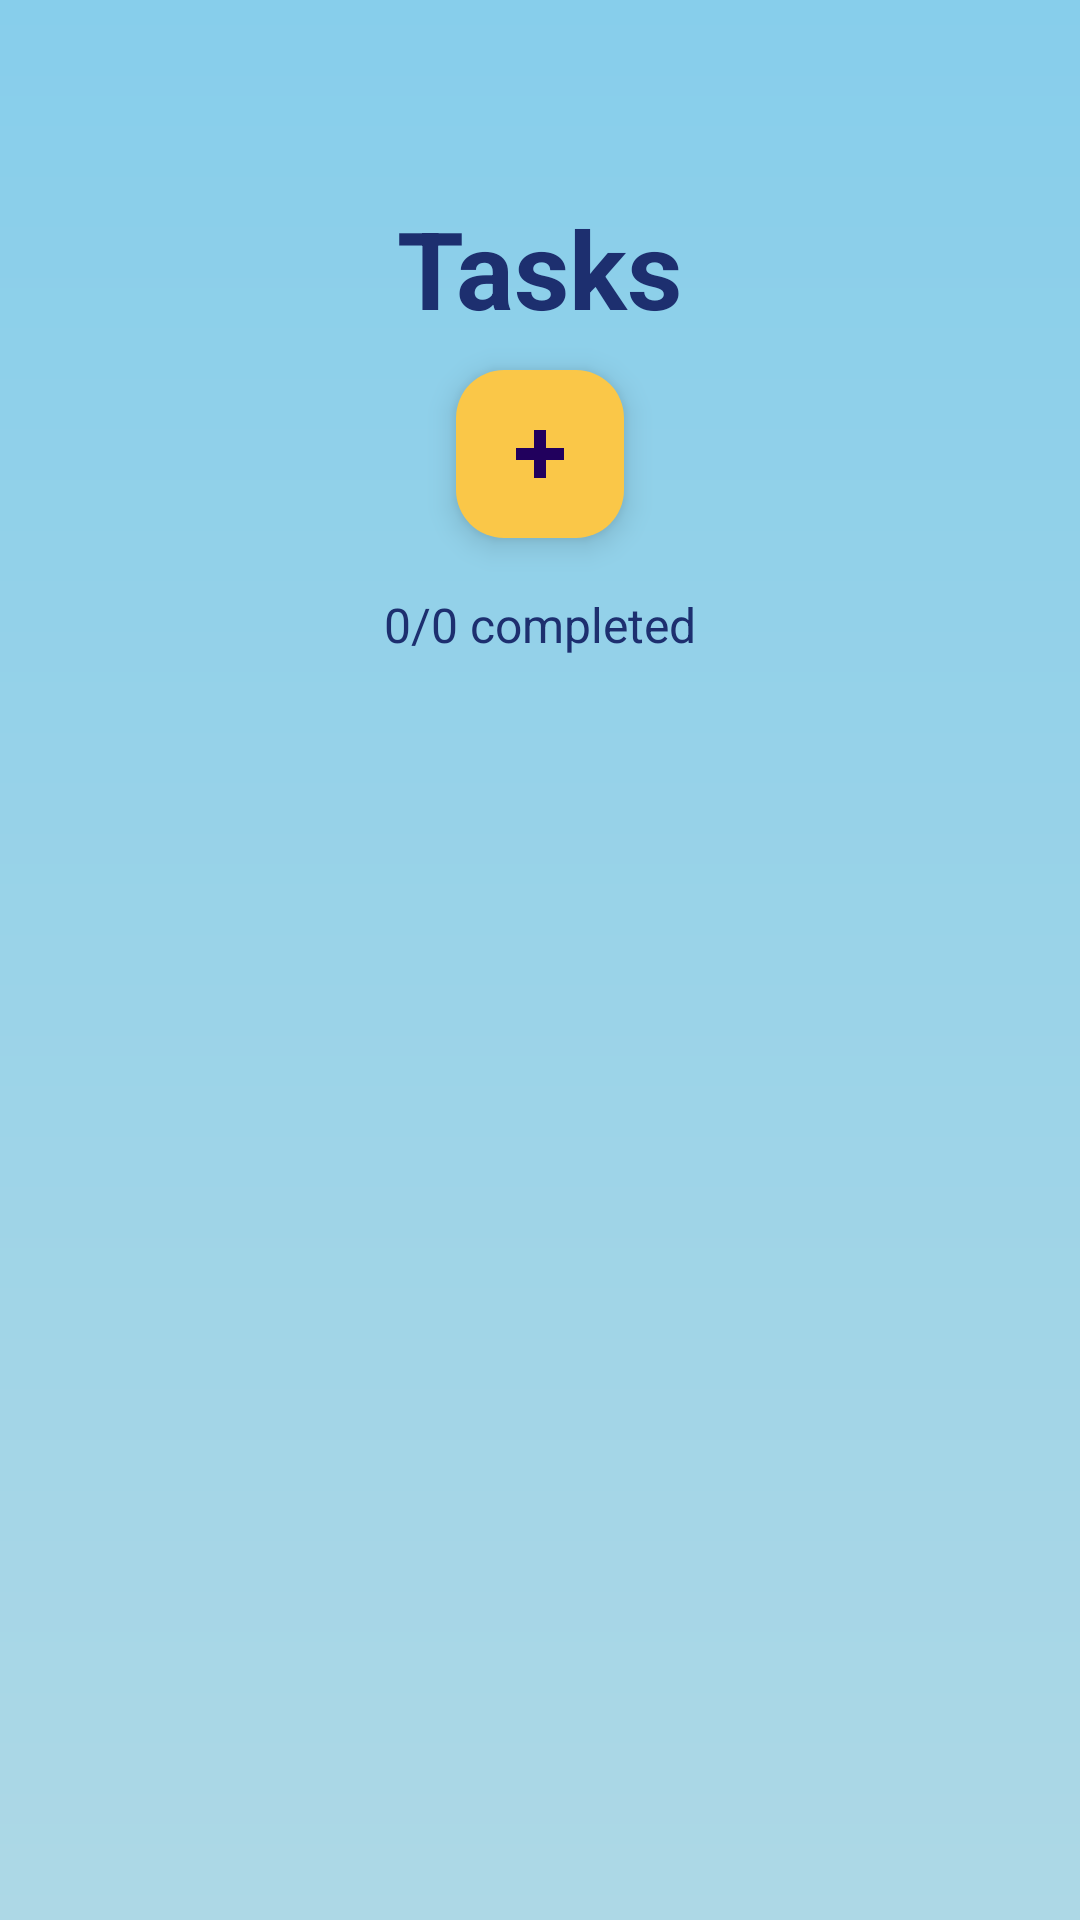

Screen size 1080 × 1920. Icon name, then its box in pixels as [x1, y1, x2, y2]:
Floating Btn to add task: [456, 370, 624, 538]
